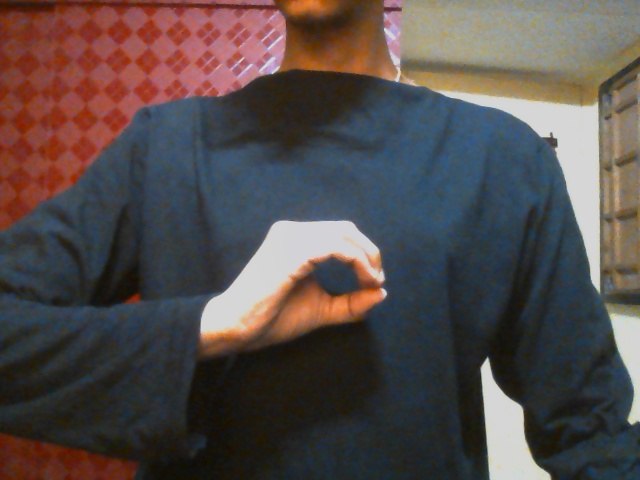O: (226, 217, 394, 361)
